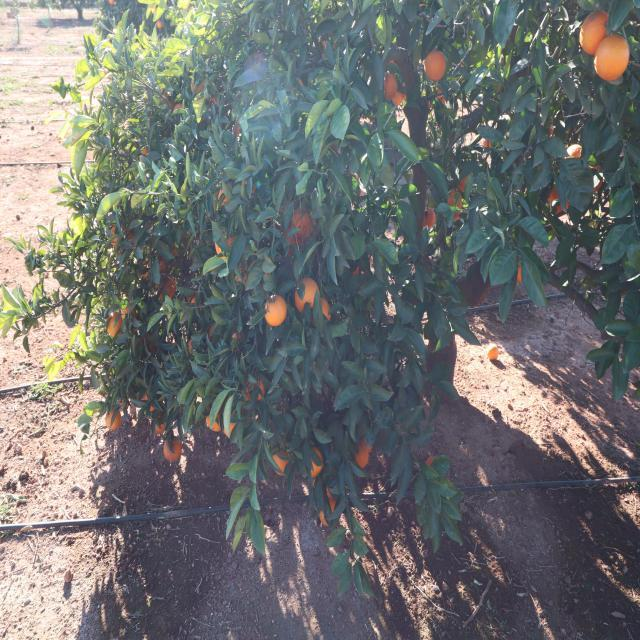Jeruk Sudah Matang: (576, 8, 616, 54), (595, 34, 633, 80), (282, 199, 316, 249), (564, 143, 604, 184), (109, 220, 138, 261), (294, 276, 324, 314), (354, 420, 376, 470), (544, 184, 574, 220), (348, 247, 375, 287), (268, 444, 298, 478), (263, 291, 289, 329), (423, 448, 448, 484), (424, 84, 450, 118), (310, 296, 336, 330), (426, 47, 450, 82), (215, 179, 240, 212), (232, 254, 256, 286), (513, 249, 533, 286), (213, 230, 237, 260), (242, 375, 266, 404), (308, 446, 326, 482), (188, 70, 211, 98), (160, 274, 180, 306), (445, 184, 463, 219), (146, 392, 170, 418), (106, 310, 124, 344), (380, 70, 400, 100), (164, 434, 184, 464), (417, 206, 437, 236), (318, 500, 336, 532), (226, 118, 246, 146), (244, 170, 264, 198), (204, 90, 228, 113), (222, 412, 240, 442), (231, 324, 251, 350), (127, 296, 142, 330), (320, 32, 337, 62), (107, 404, 124, 433), (210, 319, 228, 346), (136, 139, 156, 163), (290, 76, 308, 102), (385, 48, 405, 71), (187, 334, 204, 361), (182, 283, 200, 308), (481, 134, 498, 160), (135, 380, 151, 407), (152, 413, 170, 437), (389, 88, 409, 109), (172, 100, 192, 121), (204, 406, 219, 434), (156, 92, 173, 116), (461, 166, 476, 192), (322, 480, 338, 499)
